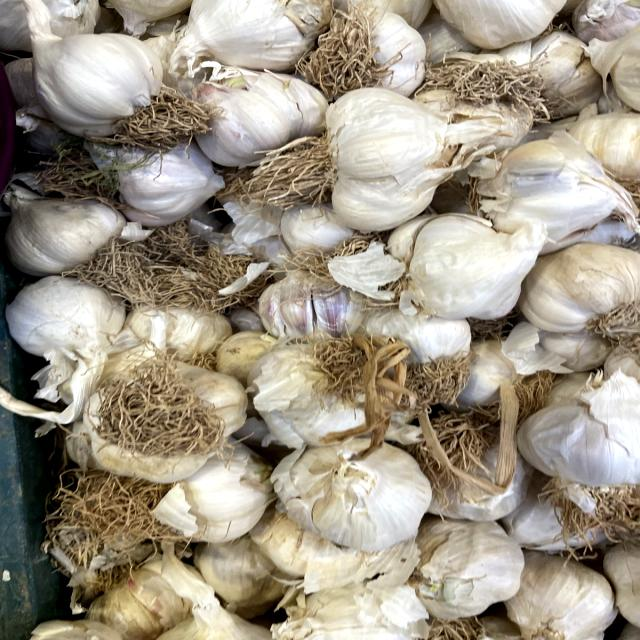garlic: (11, 12, 220, 156), (276, 77, 511, 184), (385, 201, 571, 324)
